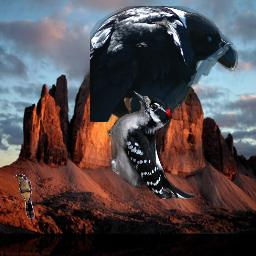Crow: (90, 6, 239, 122)
Cuckoo: (13, 174, 35, 219)
Woodpecker: (107, 91, 197, 199)
